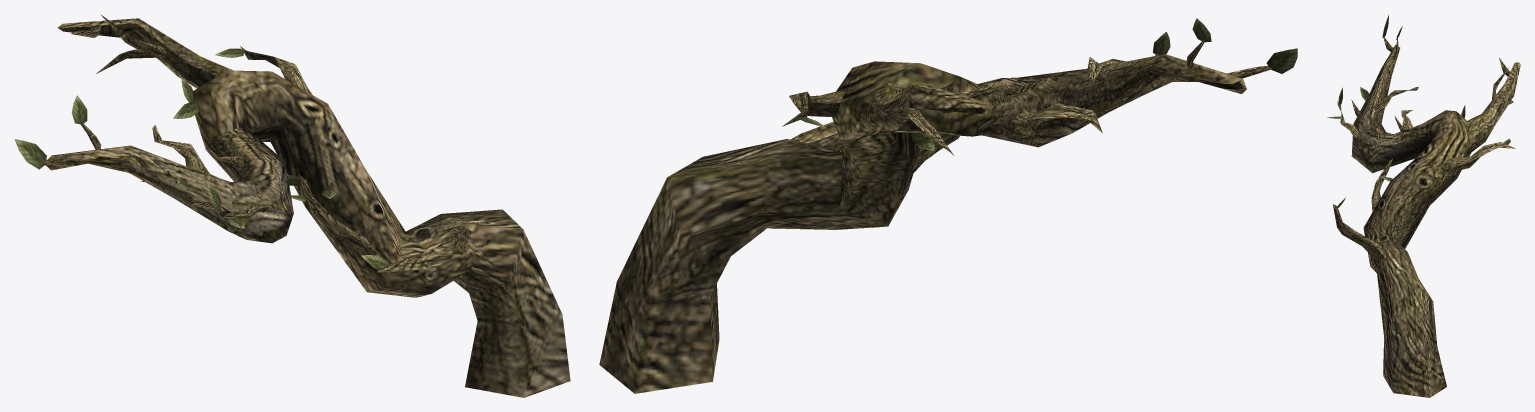
File: SM_Plains_Tree01.FBX
The picture shows the model from 3 angles, left to right: view 1: azimuth 30°, elevation 25°; view 2: azimuth 150°, elevation 25°; view 3: azimuth 270°, elevation 25°; orthographic projection. The views are drawn at different scales.
Parts seen in each view (by area): view 1: SM_Plains_Tree01; view 2: SM_Plains_Tree01; view 3: SM_Plains_Tree01.
Boxes of the visible parts, x1=… form: SM_Plains_Tree01: x1=14, y1=15, x2=570, y2=397; SM_Plains_Tree01: x1=599, y1=18, x2=1297, y2=393; SM_Plains_Tree01: x1=1327, y1=15, x2=1520, y2=397.
Size of the model in its own units: 222 by 152 by 114.
